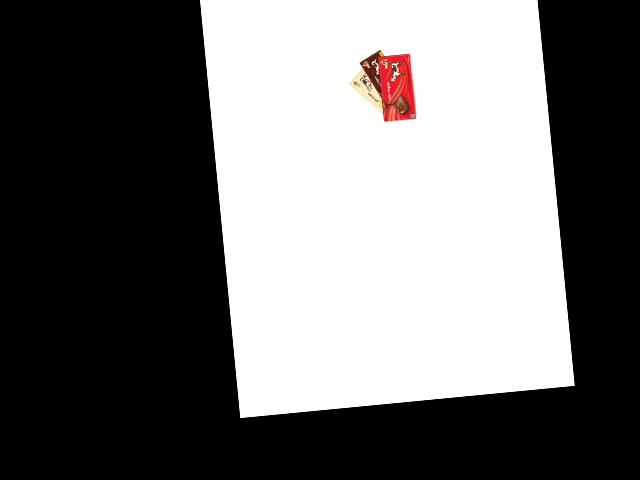chocolate: (346, 59, 389, 123)
